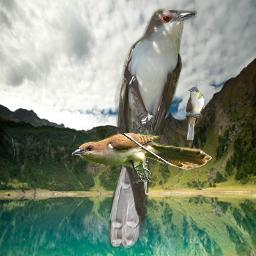Cuckoo: (107, 5, 198, 248), (72, 133, 212, 182), (185, 87, 204, 140)
